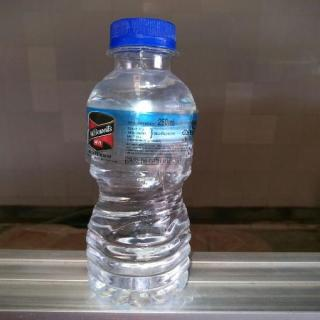Plastic-bottle: (83, 16, 203, 310)
